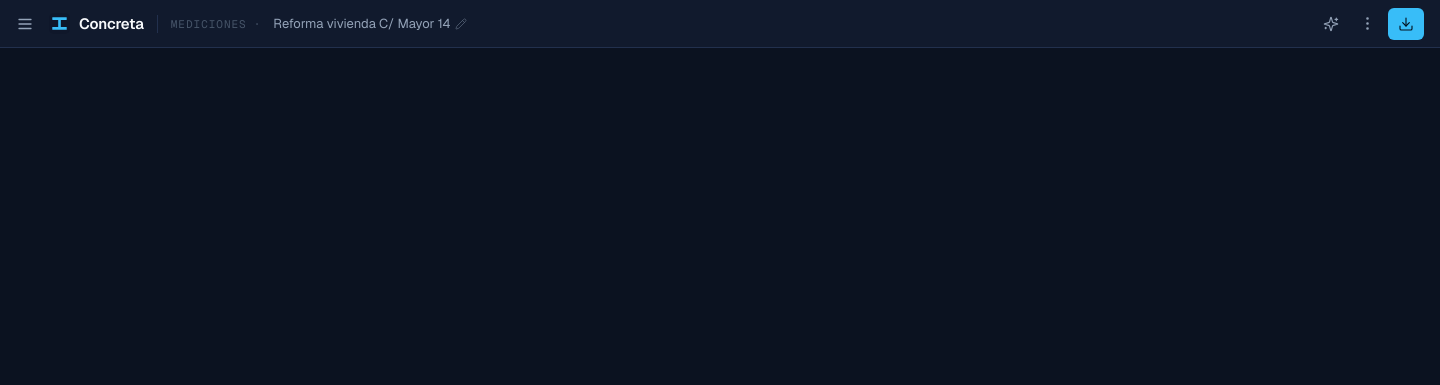
Scenario: TopBar — menú «Más» en móvil (la fila de acciones pisaba la marca) › abrir el menú muestra las acciones; elegir una la ejecuta y cierra el menú
Click the button named "Más acciones": coordinates (1367, 24) left=1352, top=8, right=1382, bottom=38
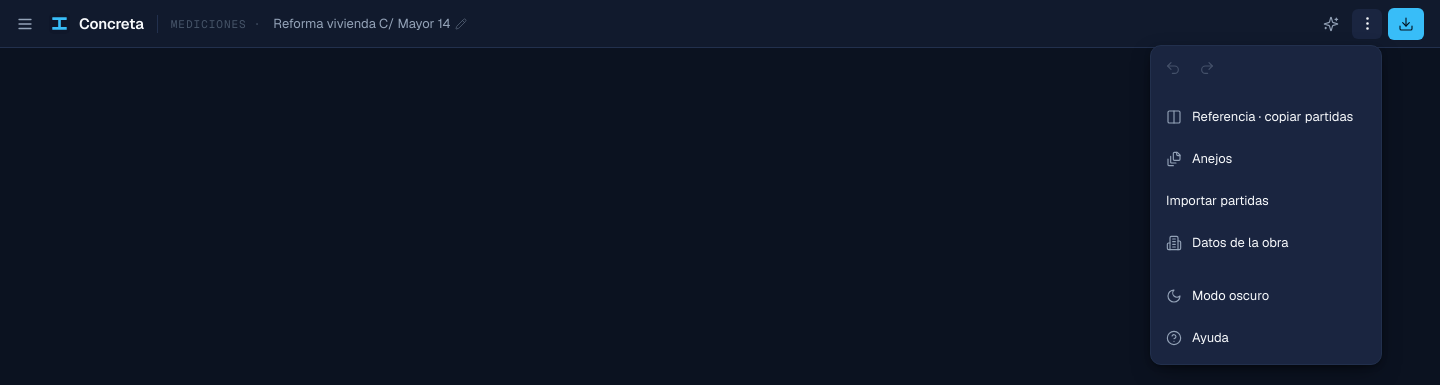
Expected: the menu is shown, left=1150, top=44, right=1382, bottom=364
Expected: the menu item "Referencia · copiar partidas" is shown, left=1156, top=96, right=1376, bottom=138
Expected: the menu item "Modo oscuro" is shown, left=1156, top=274, right=1376, bottom=316
Click the menu item "Datos de la obra": coordinates (1266, 242) left=1156, top=222, right=1376, bottom=264
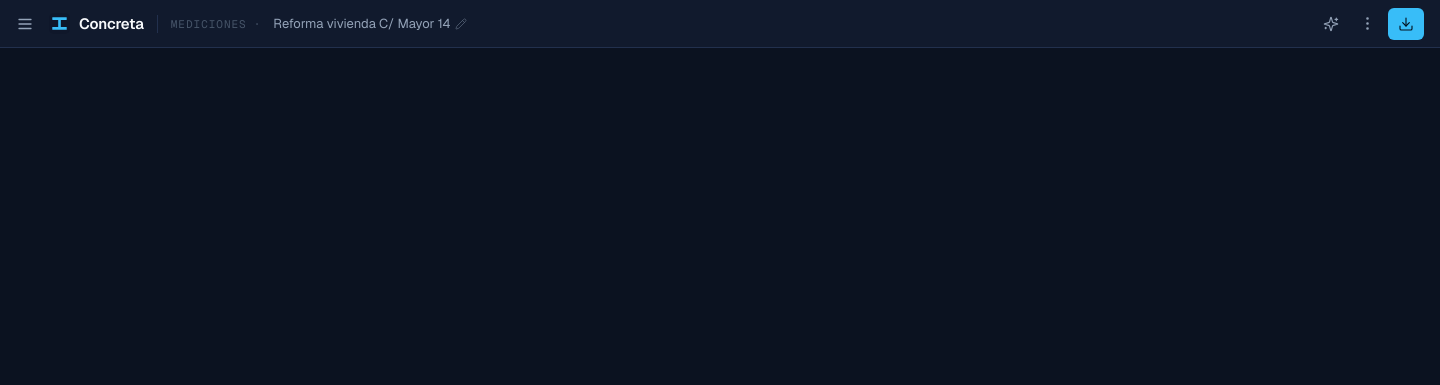
Expected: the menu is gone
